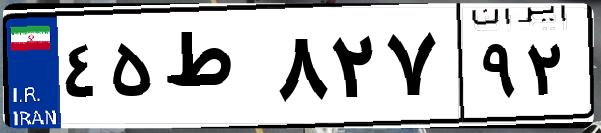2: (330, 28, 385, 110), (525, 38, 570, 115)
4: (57, 26, 110, 100)
5: (110, 28, 158, 98)
7: (385, 28, 445, 110)
8: (270, 28, 330, 110)
9: (475, 38, 525, 113)
ط: (158, 20, 270, 120)
